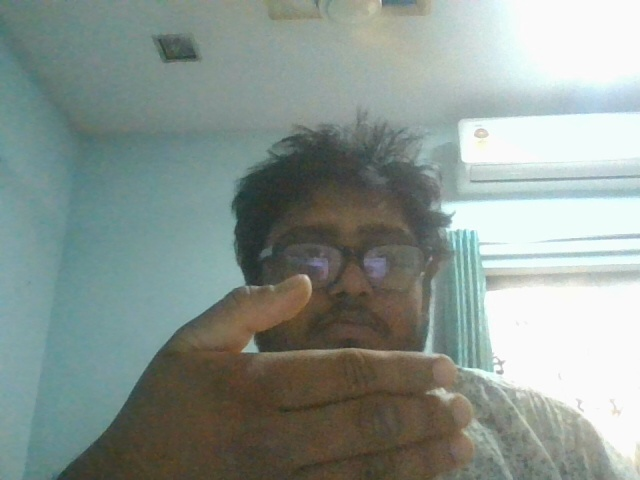LEFT: (113, 253, 473, 480)
